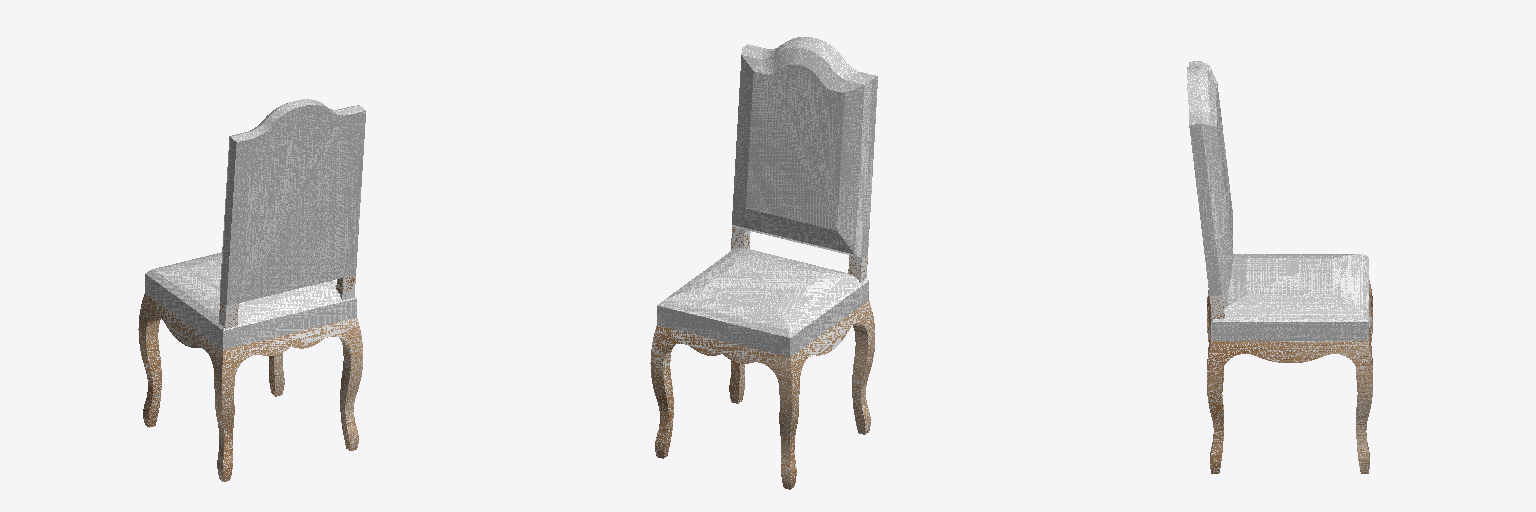
3 renders of one model, left to right at view 1: azimuth 30°, elevation 25°; view 2: azimuth 150°, elevation 25°; view 3: azimuth 270°, elevation 25°, orthographic.
Parts seen in each view (by area): view 1: mesh1_mesh1-geometry, mesh3_mesh3-geometry, mesh2_mesh2-geometry; view 2: mesh1_mesh1-geometry, mesh2_mesh2-geometry, mesh3_mesh3-geometry; view 3: mesh2_mesh2-geometry, mesh1_mesh1-geometry, mesh3_mesh3-geometry.
Part boxes in pixels (x1,y1,x2,y2): mesh1_mesh1-geometry: (219, 99, 365, 328); mesh3_mesh3-geometry: (138, 293, 362, 481); mesh2_mesh2-geometry: (145, 252, 356, 349); mesh1_mesh1-geometry: (731, 37, 877, 282); mesh2_mesh2-geometry: (657, 248, 868, 357); mesh3_mesh3-geometry: (650, 300, 874, 489); mesh2_mesh2-geometry: (1211, 254, 1368, 340); mesh1_mesh1-geometry: (1187, 61, 1232, 319); mesh3_mesh3-geometry: (1207, 280, 1372, 473).
Size of the model in its own units: 0.3423 by 0.8545 by 0.3908.
4 materials, 1 textured.